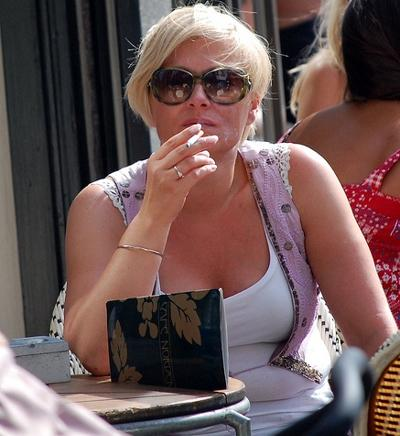person: (64, 5, 400, 436)
